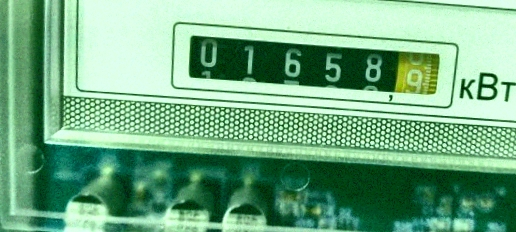0: (197, 36, 219, 68)
1: (239, 42, 259, 75)
5: (321, 50, 344, 82)
6: (281, 44, 303, 78)
8: (362, 50, 384, 83)
9: (401, 66, 424, 96)
screen: (159, 12, 464, 115)
